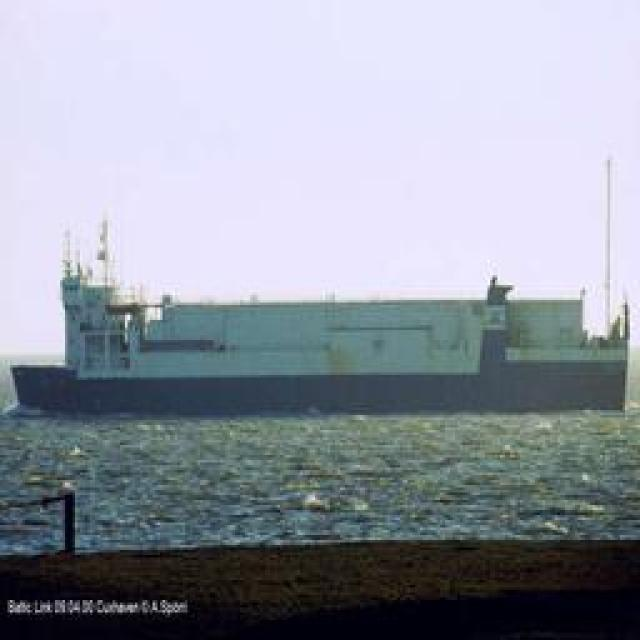CIV_Ship: (18, 284, 628, 418)
